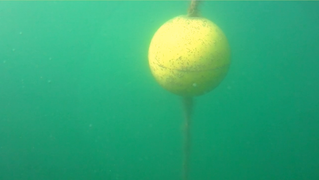buoy: (147, 15, 232, 96)
